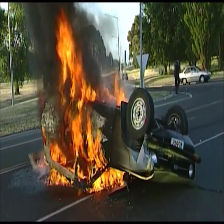fire_h: (49, 6, 107, 179), (85, 165, 124, 193), (103, 73, 128, 105), (46, 167, 73, 187)
fire_l: (37, 154, 49, 167), (41, 126, 47, 143)
